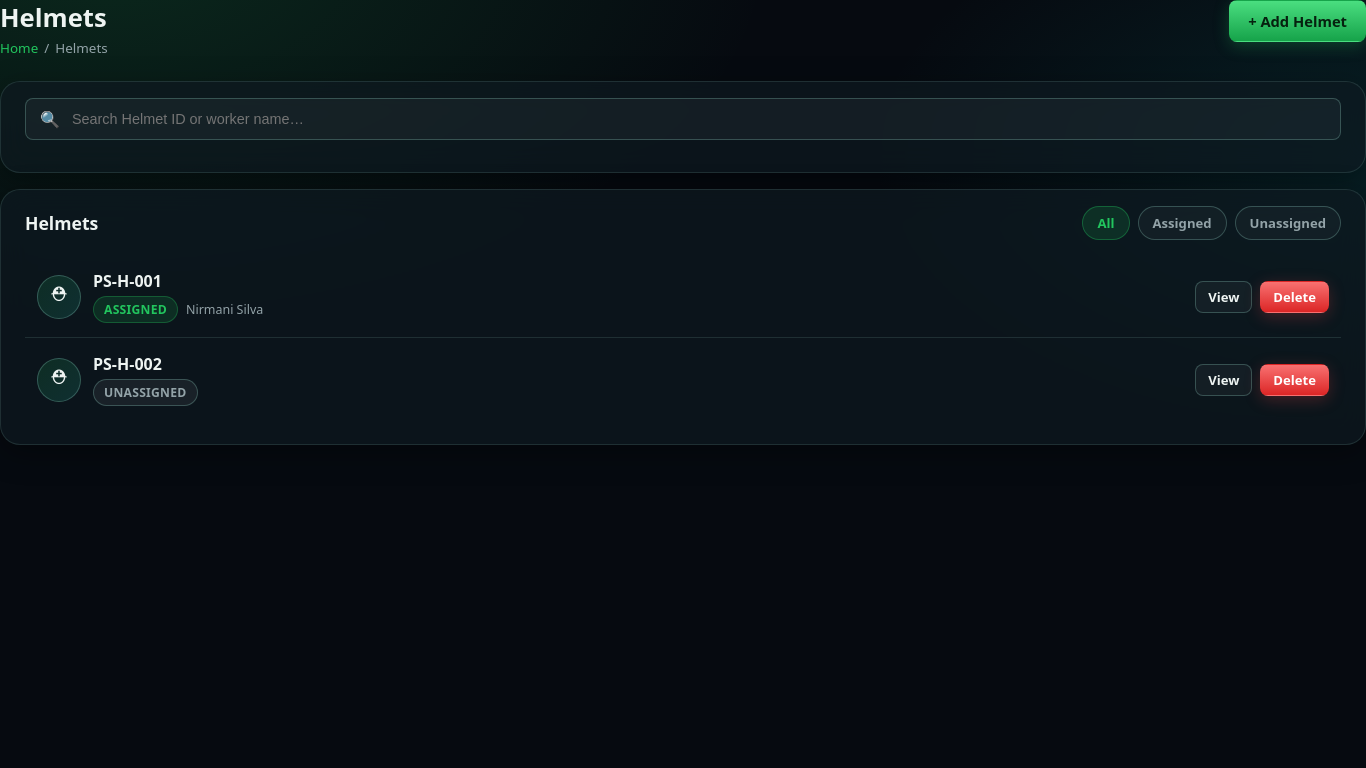
Test: HelmetListPage › Add Helmet button opens the add modal
The image size is (1366, 768).
Expected: the text "PS-H-001" is shown, left=93, top=270, right=162, bottom=292
Click the button "+ Add Helmet".
click(1298, 21)  # box left=1229, top=0, right=1365, bottom=42
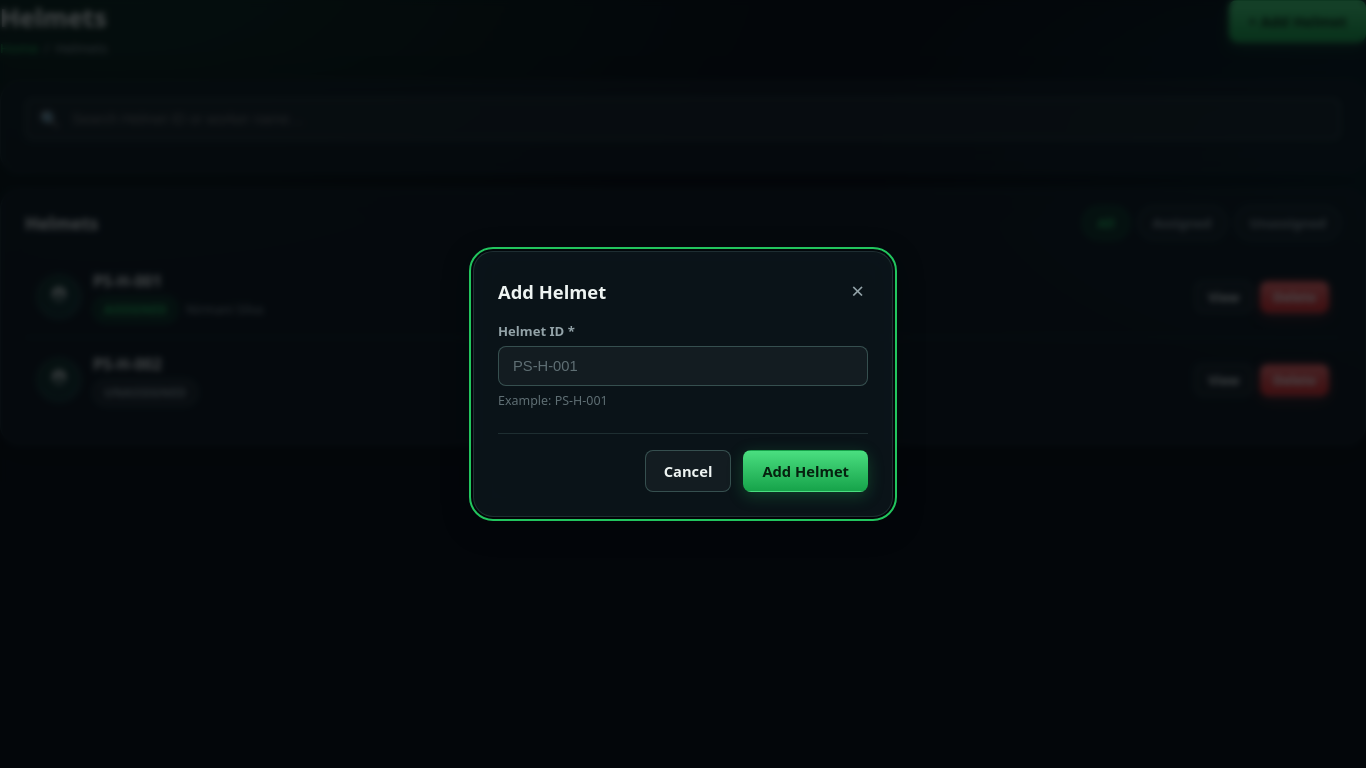
Now the heading "Add Helmet" is shown, box left=498, top=278, right=606, bottom=304
